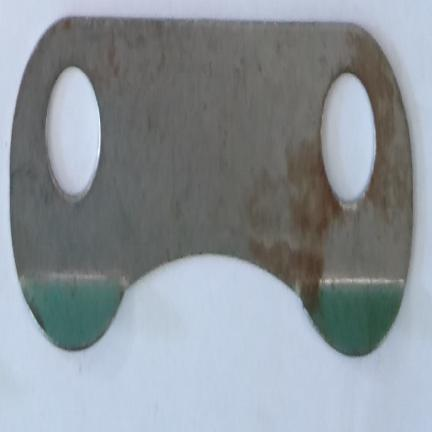besi_tidak_karat: (10, 18, 413, 356), (311, 284, 403, 355)
karat: (352, 35, 395, 200), (251, 237, 324, 313)
